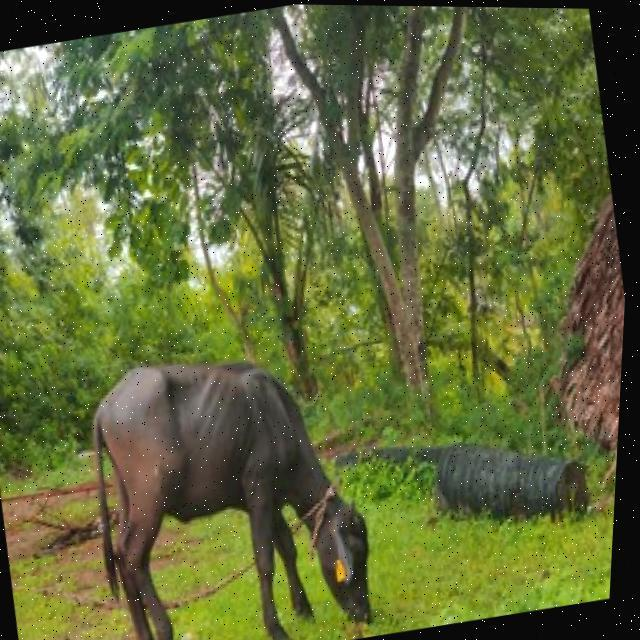Buffalo: (61, 322, 396, 640)
